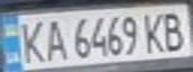4: (90, 12, 109, 57)
6: (69, 13, 93, 60), (106, 11, 127, 56)
9: (121, 11, 145, 55)
A: (39, 16, 69, 63)
B: (157, 8, 190, 52)
K: (15, 16, 48, 64), (139, 9, 169, 54)
